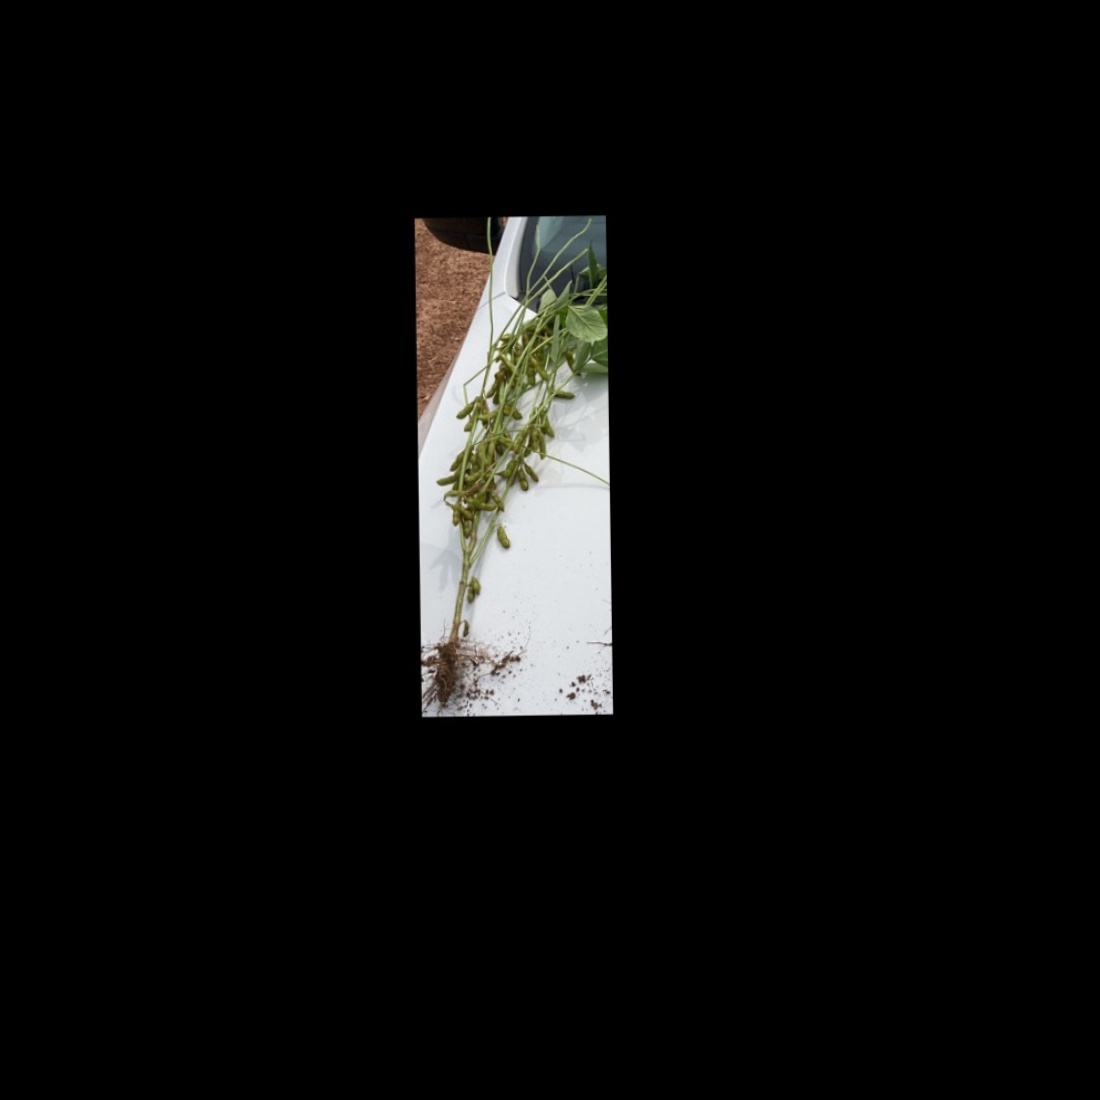pod: (489, 521, 513, 554), (527, 355, 550, 383), (452, 399, 479, 422), (519, 459, 542, 484), (498, 454, 518, 476), (514, 465, 530, 493), (490, 489, 508, 513), (551, 388, 581, 401), (536, 429, 547, 461)
soy: (418, 218, 608, 699)
